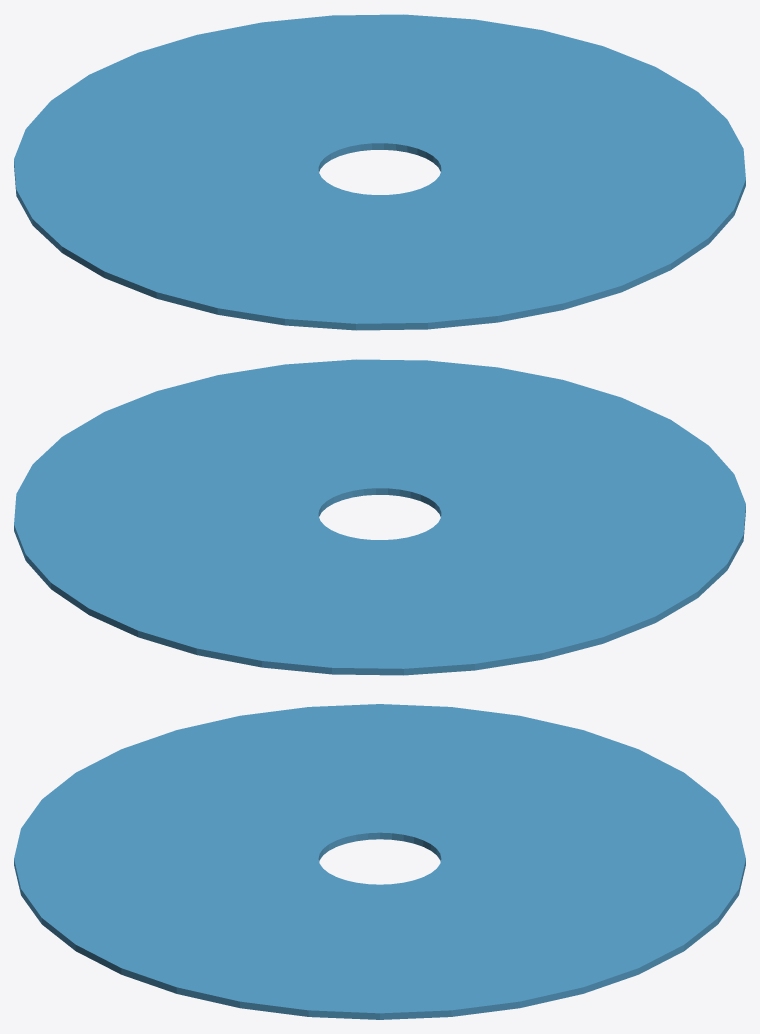
Rendered from Cylinder with hole.fbx.
The picture shows the model from 3 angles, top to bottom: view 1: azimuth 30°, elevation 25°; view 2: azimuth 150°, elevation 25°; view 3: azimuth 270°, elevation 25°; orthographic projection.
Parts seen in each view (by area): view 1: Cylinder; view 2: Cylinder; view 3: Cylinder.
Part boxes in pixels (x1,y1,x2,y2): Cylinder: [14, 14, 745, 330]; Cylinder: [14, 359, 745, 675]; Cylinder: [14, 704, 745, 1019].
Bounding box in the file's own units: 5000 × 50 × 5000.
